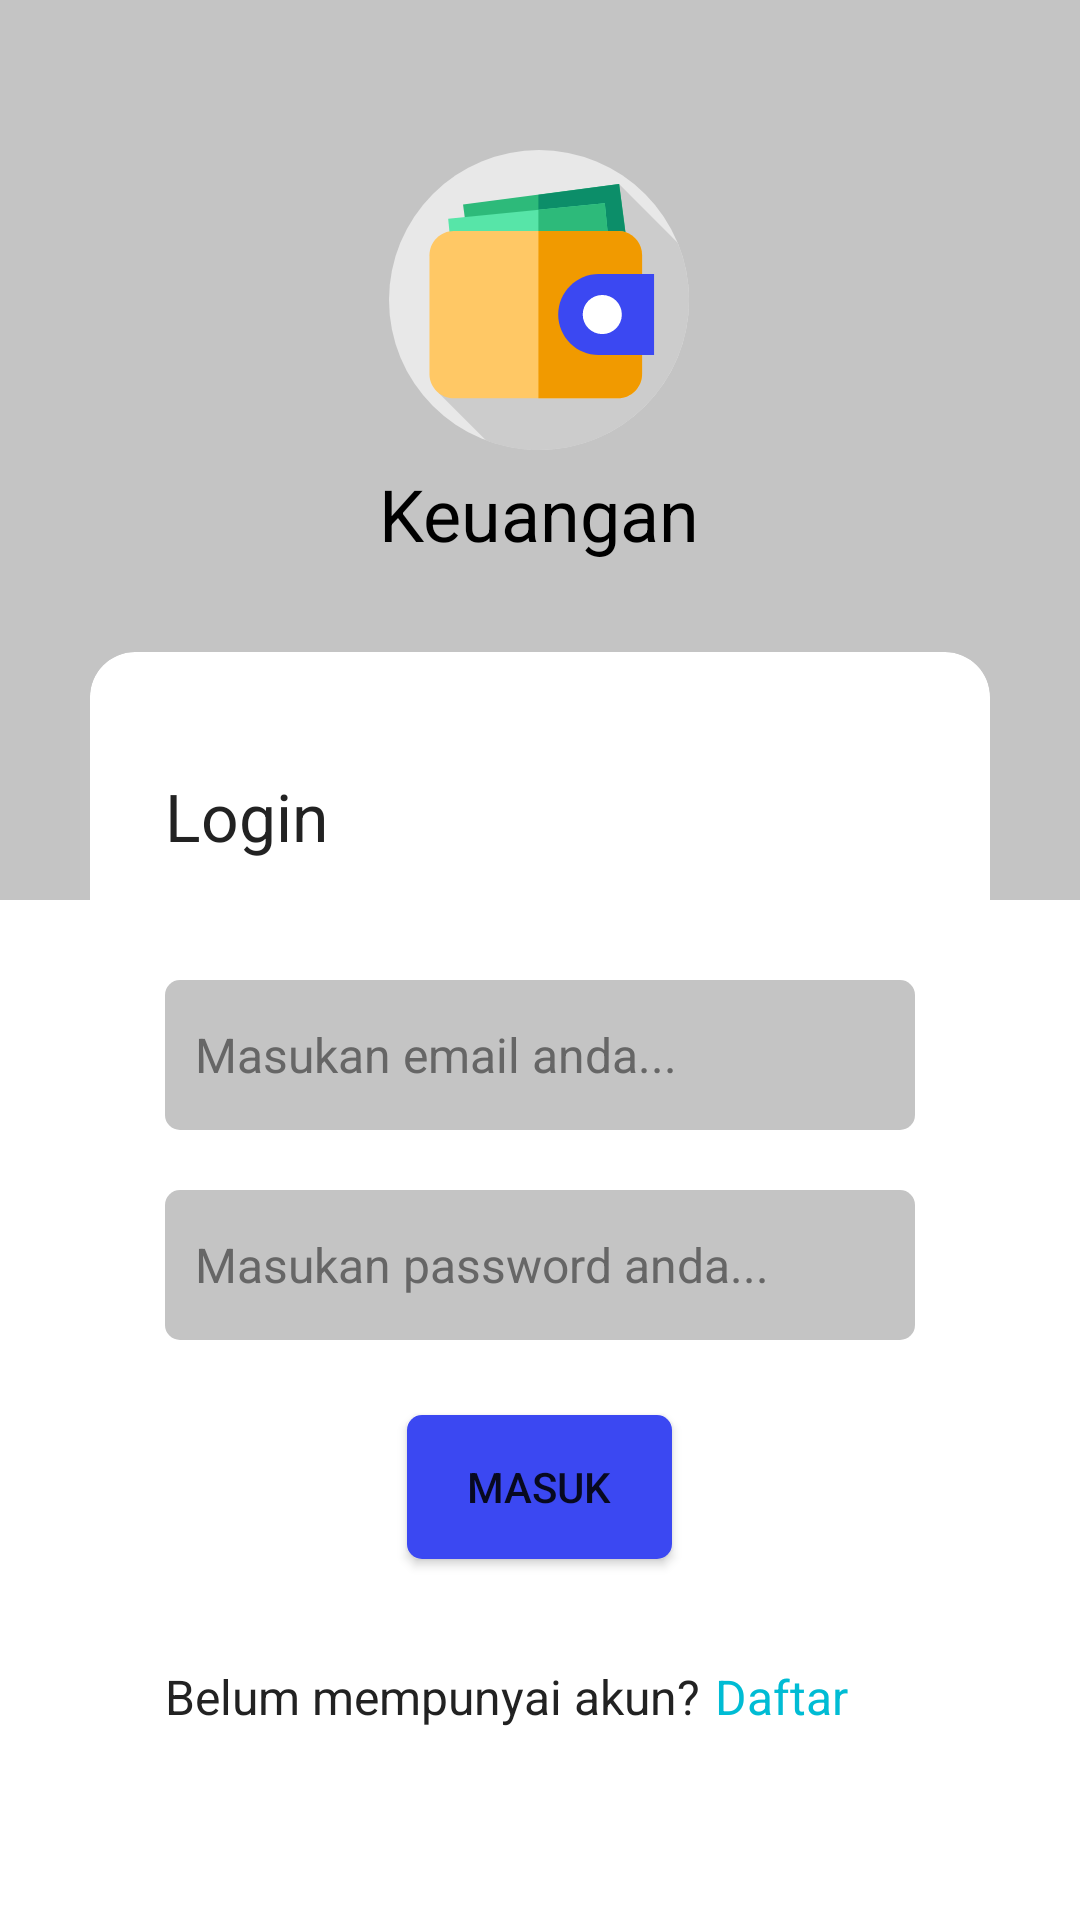

Where to tap for icons on this 1080*1920 app screen, as [x,y]:
wallet: [532,294]
